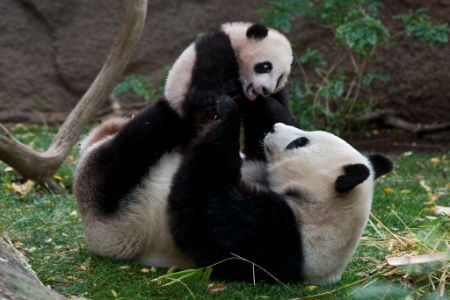bear: (72, 109, 400, 289), (164, 16, 299, 118)
